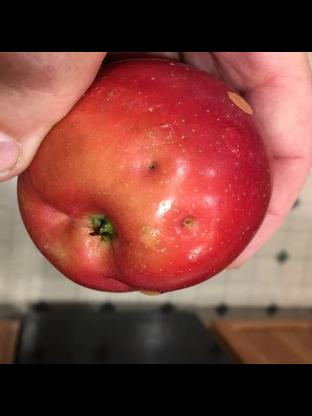defect: (128, 149, 172, 191), (166, 208, 208, 238), (223, 88, 255, 120)
